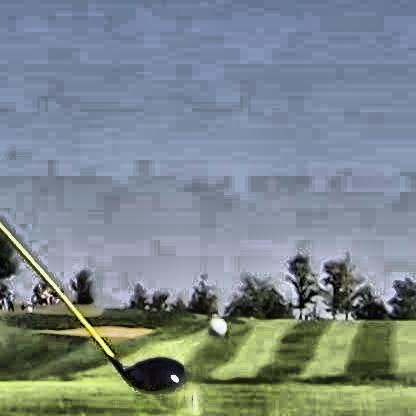golfball: (207, 314, 224, 335)
